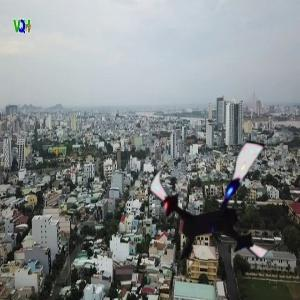drone: (144, 130, 296, 282)
